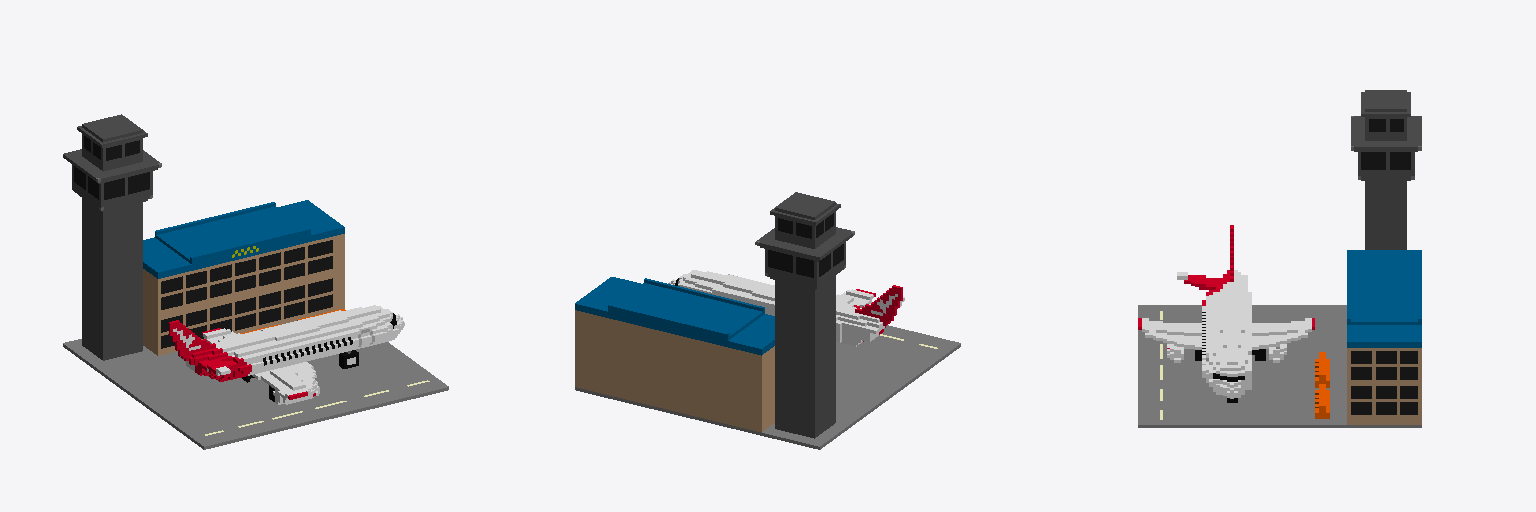
The picture shows the model from 3 angles: view 1: azimuth 30°, elevation 25°; view 2: azimuth 150°, elevation 25°; view 3: azimuth 270°, elevation 25°; orthographic projection.
Parts seen in each view (by area): view 1: object 1; view 2: object 1; view 3: object 1.
Part boxes in pixels (x1,y1,x2,y2): object 1: (63, 114, 448, 449); object 1: (575, 192, 960, 449); object 1: (1138, 90, 1421, 427).
Size of the model in its own units: 8 by 7 by 8.
1 materials, 1 textured.